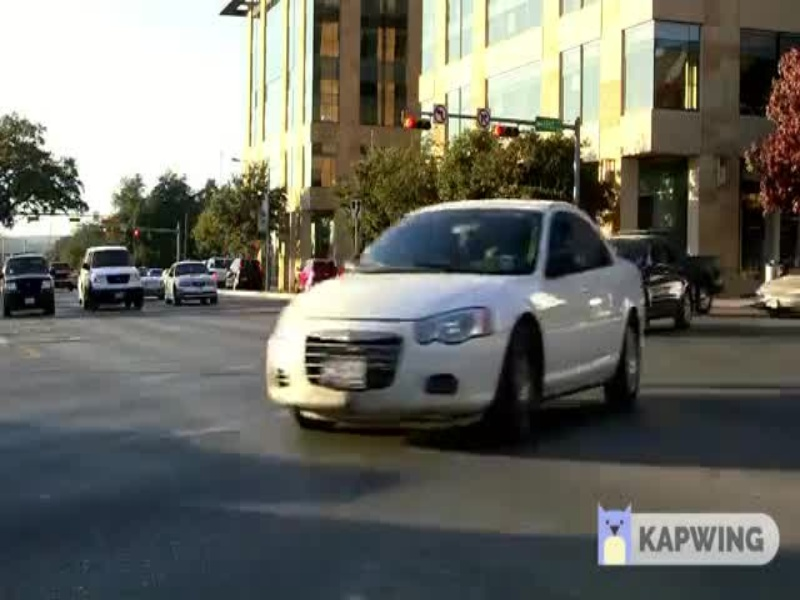car: (260, 199, 650, 438), (75, 240, 143, 314), (158, 249, 227, 308), (1, 252, 58, 319)
